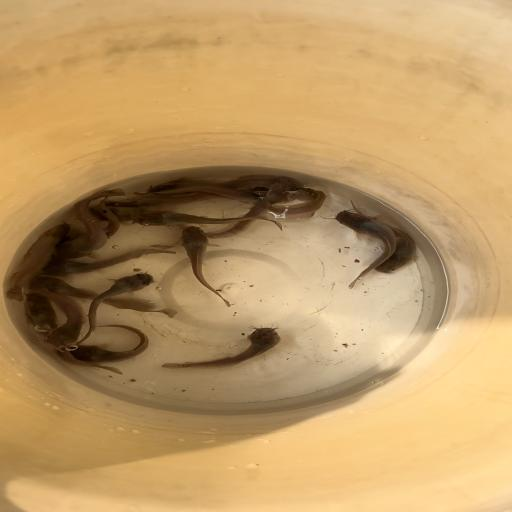lele: (21, 292, 124, 375), (8, 270, 179, 318), (70, 273, 156, 350), (206, 175, 298, 240), (158, 325, 284, 371), (2, 222, 72, 302), (346, 199, 419, 274), (334, 210, 398, 290), (56, 187, 125, 258), (173, 226, 233, 306), (91, 203, 193, 249), (22, 286, 88, 349), (30, 248, 176, 276), (59, 324, 150, 365), (132, 211, 284, 233), (138, 174, 279, 196), (134, 182, 266, 205), (265, 187, 326, 220), (91, 198, 121, 238)
